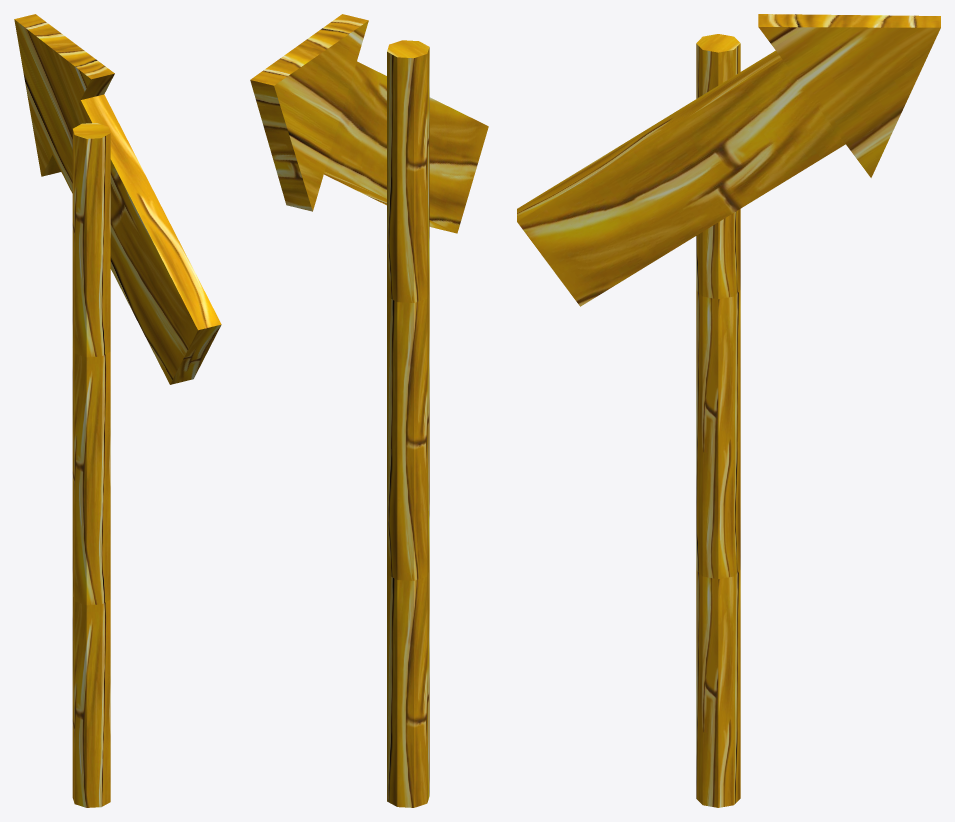
File: SignSlanted2.obj
The picture shows the model from 3 angles, left to right: view 1: azimuth 30°, elevation 25°; view 2: azimuth 150°, elevation 25°; view 3: azimuth 270°, elevation 25°; orthographic projection. The views are drawn at different scales.
Visible parts, largest first — view 1: Cylinder.003, Plane.003; view 2: Cylinder.003, Plane.003; view 3: Plane.003, Cylinder.003.
Boxes of the visible parts, <box> form: Cylinder.003: <box>72,123,110,807</box>; Plane.003: <box>14,14,221,384</box>; Cylinder.003: <box>387,40,429,807</box>; Plane.003: <box>250,14,488,233</box>; Plane.003: <box>517,14,940,306</box>; Cylinder.003: <box>696,34,740,807</box>.
Bounding box in the file's own units: 0.2798 × 3.16 × 1.53.
